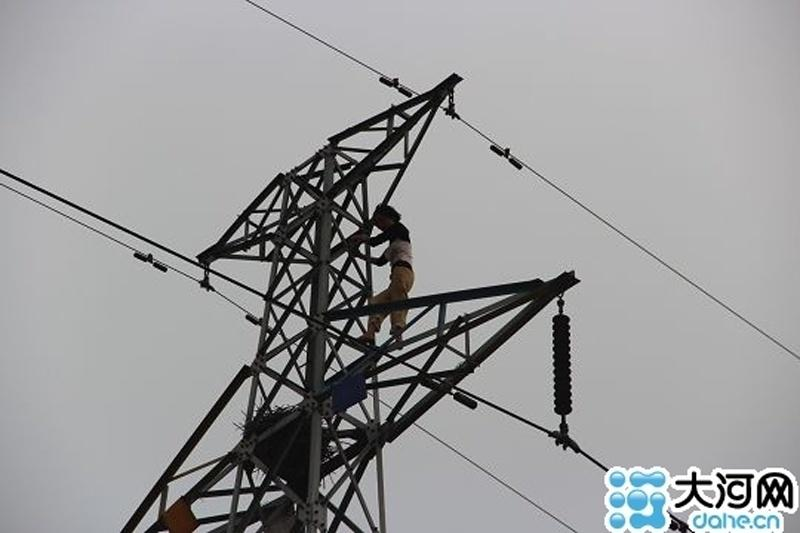power_tower: (53, 50, 593, 521)
